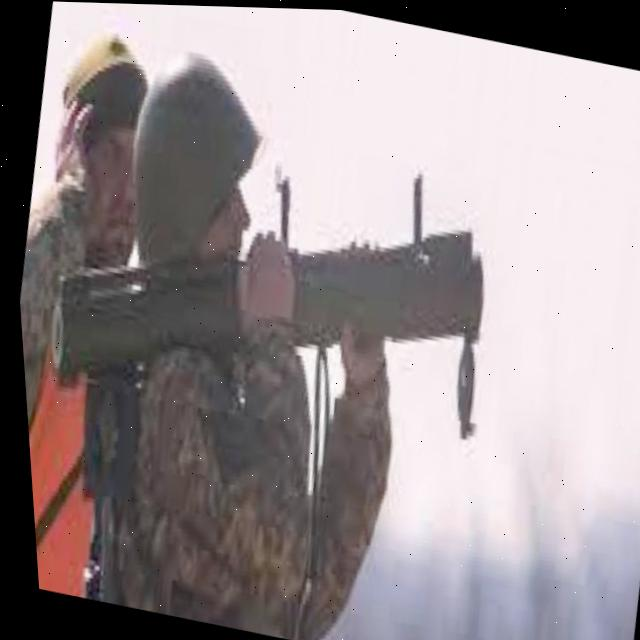rocket: (22, 140, 500, 463)
